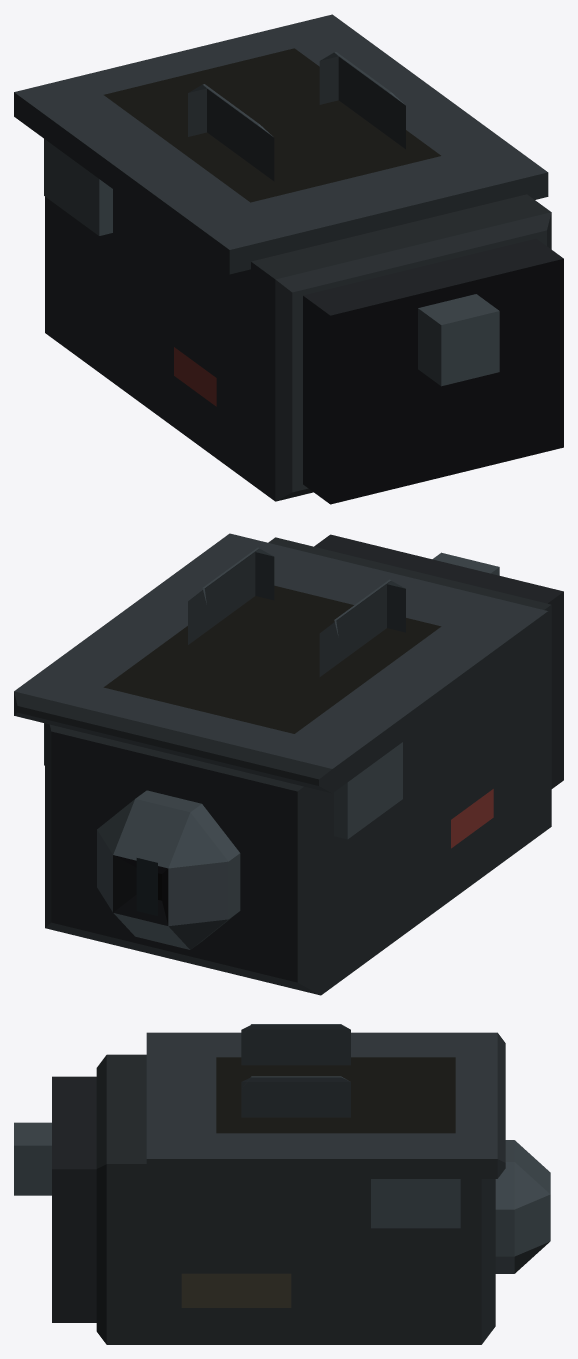
File: lp_security_camera.glb
3 views of the same model, one above another, from view 1: azimuth 30°, elevation 25°; view 2: azimuth 150°, elevation 25°; view 3: azimuth 270°, elevation 25° (orthographic). The views are drawn at different scales.
Visible parts, largest first — view 1: lp_security_camera; view 2: lp_security_camera; view 3: lp_security_camera.
Part boxes in pixels (<box>): lp_security_camera: <box>14,14,563,504</box>; lp_security_camera: <box>14,533,563,995</box>; lp_security_camera: <box>14,1024,550,1344</box>.
Bounding box in the file's own units: 0.3 × 0.265 × 0.5515.
1 material, 1 textured.
